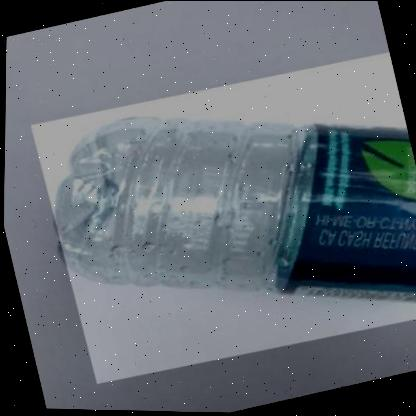Plastic Bottle: (54, 118, 416, 302)
